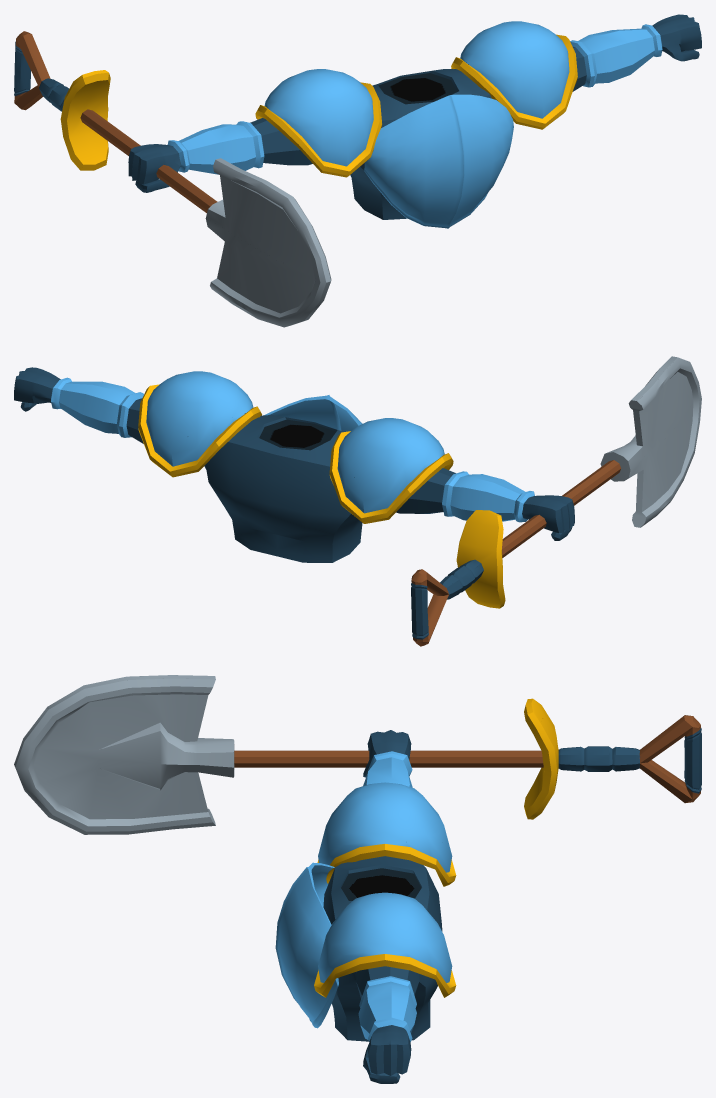
File: Shovel_Knight_Body.fbx
3 views of the same model, one above another, from view 1: azimuth 30°, elevation 25°; view 2: azimuth 150°, elevation 25°; view 3: azimuth 270°, elevation 25° (orthographic). The views are drawn at different scales.
Visible parts, largest first — view 1: Cube, Pauldrons, Shovel_Knight_Body, Chestplate; view 2: Shovel_Knight_Body, Pauldrons, Cube, Chestplate; view 3: Cube, Pauldrons, Shovel_Knight_Body, Chestplate.
Boxes of the visible parts, box(x1,y1,x2,y2) form: Cube: box(14, 31, 331, 327); Pauldrons: box(255, 21, 577, 177); Shovel_Knight_Body: box(128, 14, 701, 219); Chestplate: box(364, 94, 513, 228); Shovel_Knight_Body: box(14, 367, 574, 562); Pauldrons: box(138, 371, 453, 523); Cube: box(411, 356, 701, 646); Chestplate: box(264, 395, 362, 431); Cube: box(14, 675, 701, 834); Pauldrons: box(314, 782, 456, 997); Shovel_Knight_Body: box(323, 730, 442, 1083); Chestplate: box(275, 862, 338, 1028).
Bounding box in the file's own units: 9.38 × 2.71 × 8.57.
